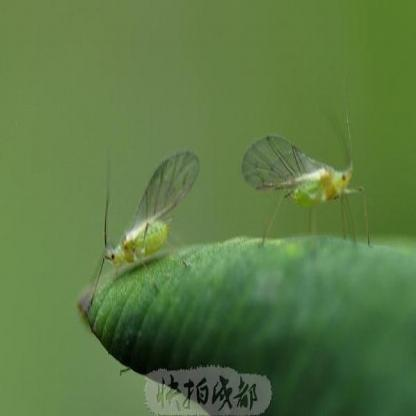aphid: (242, 120, 372, 259), (92, 149, 202, 294)
